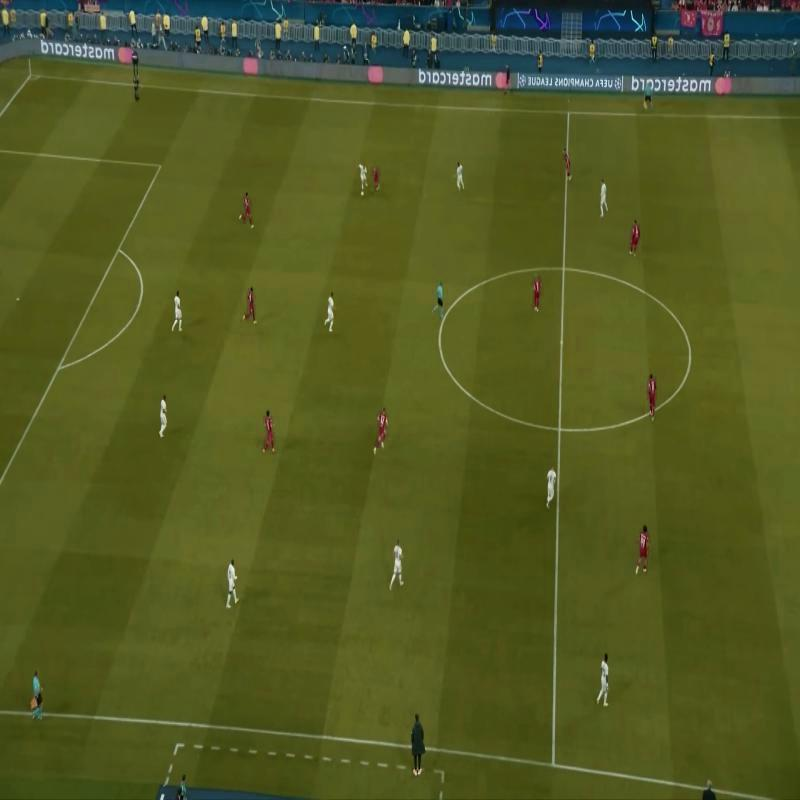1: (24, 68, 37, 83)
10: (110, 242, 127, 258)
11: (48, 354, 70, 380)
13: (563, 106, 574, 121)
14: (555, 259, 572, 276)
15: (552, 422, 568, 440)
16: (545, 756, 563, 774)
9: (154, 160, 168, 174)
c: (430, 330, 448, 347), (683, 347, 700, 364)
